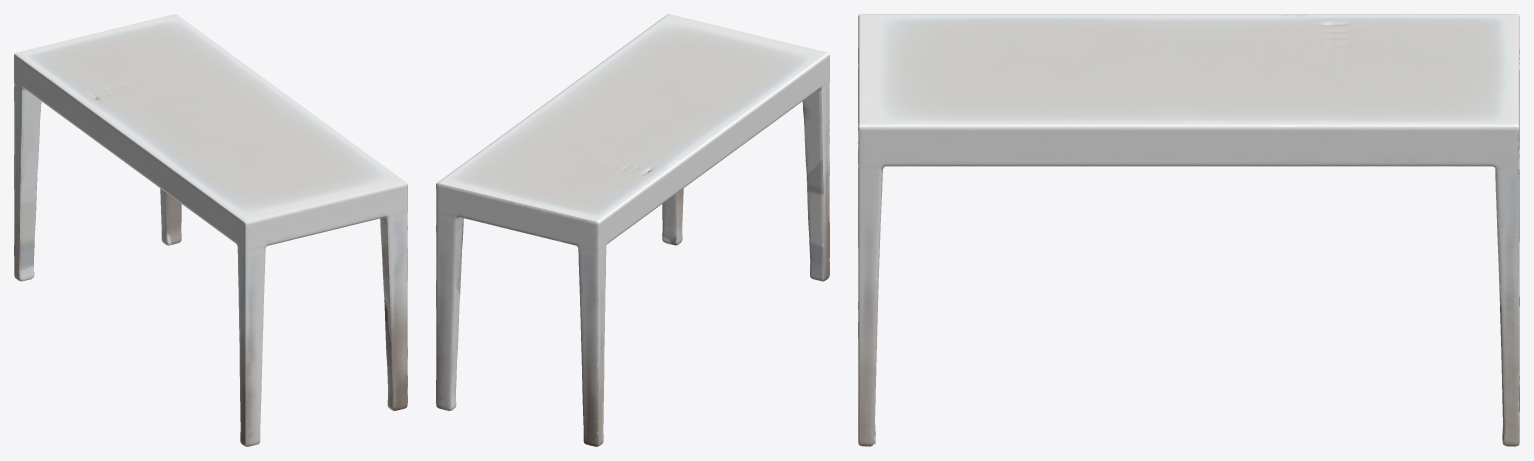
File: table__table#1.glb
The picture shows the model from 3 angles, left to right: view 1: azimuth 30°, elevation 25°; view 2: azimuth 150°, elevation 25°; view 3: azimuth 270°, elevation 25°; orthographic projection. The views are drawn at different scales.
Parts seen in each view (by area): view 1: tmp5cfxngtl.ply; view 2: tmp5cfxngtl.ply; view 3: tmp5cfxngtl.ply.
Boxes of the visible parts, <box> form: tmp5cfxngtl.ply: <box>14,14,407,446</box>; tmp5cfxngtl.ply: <box>436,14,829,446</box>; tmp5cfxngtl.ply: <box>858,14,1519,446</box>.
Size of the model in its own units: 0.807 by 1.07 by 1.99.
1 material, 1 textured.
